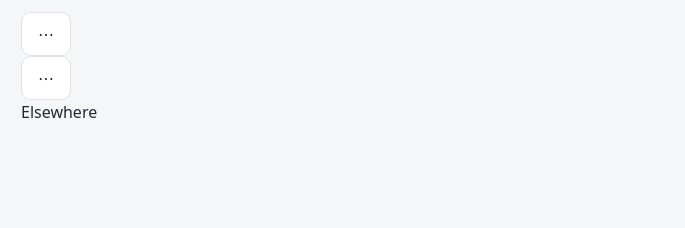
Test: RowMenu › keeps only one menu open at a time
The image size is (685, 228).
Click the button named "Actions for A" at (46, 34), box [21,12,71,56]
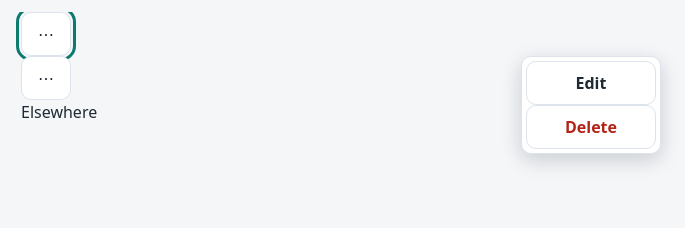
Click the button named "Actions for B" at (46, 78), box [21,56,71,100]
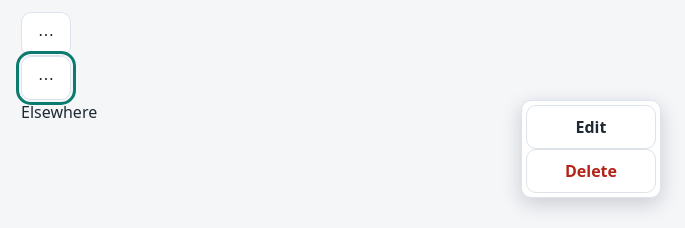
expect the number of menus is 1: met, box [521,100,661,198]
expect the menu item with aria-label "Edit B" is shown: met, box [526,105,656,149]
